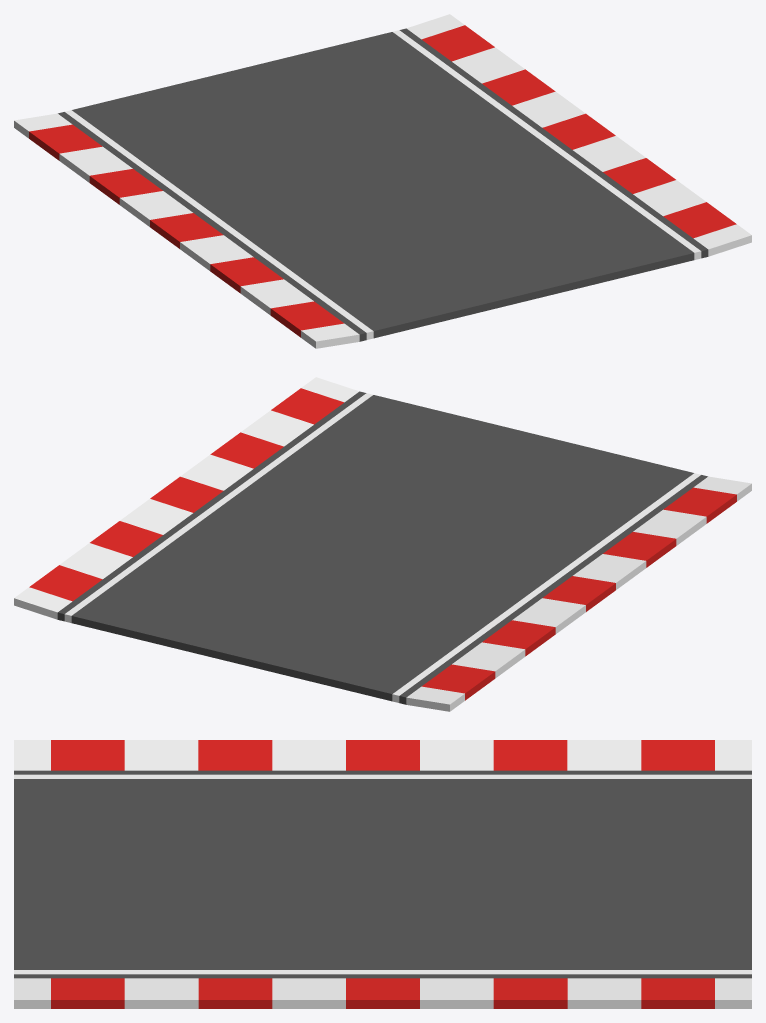
File: Track.fbx
3 views of the same model, one above another, from view 1: azimuth 30°, elevation 25°; view 2: azimuth 150°, elevation 25°; view 3: azimuth 270°, elevation 25° (orthographic). The views are drawn at different scales.
Parts seen in each view (by area): view 1: Track_line_type_01_15m_free; view 2: Track_line_type_01_15m_free; view 3: Track_line_type_01_15m_free.
Part boxes in pixels (left/top/right/bottom): Track_line_type_01_15m_free: left=14, top=14, right=751, bottom=348; Track_line_type_01_15m_free: left=14, top=377, right=751, bottom=711; Track_line_type_01_15m_free: left=14, top=740, right=751, bottom=1008.
Bounding box in the file's own units: 1250 × 30 × 1500.
